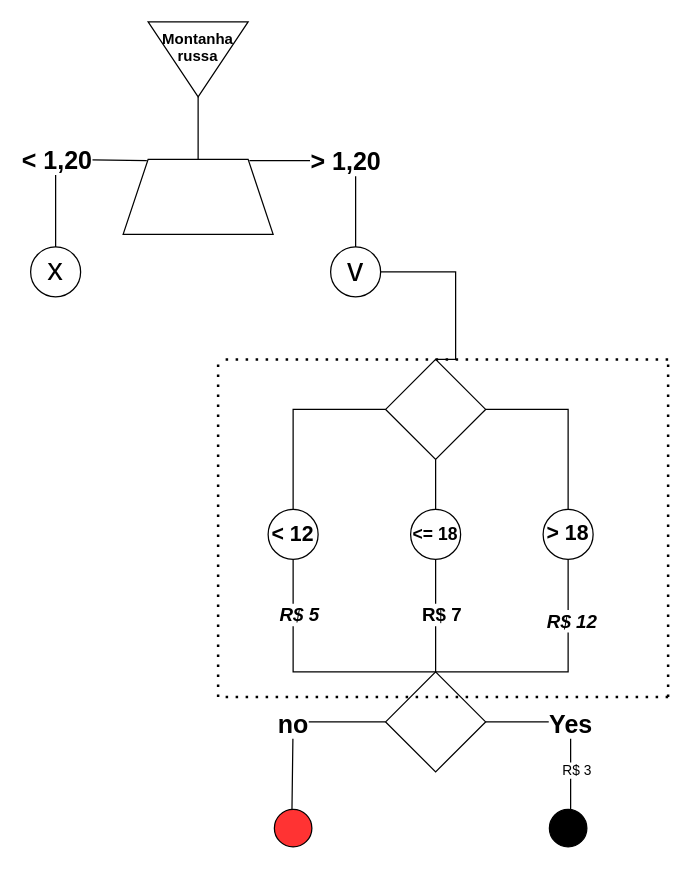
This 693x869 diagram has some shape labels left out. Each missing label, with the centre of its shape:
Foto ?: the point at 435,721
Qual a Idade?: the point at 435,408
Ter mais de 1,20 de altura.: the point at 197,196
